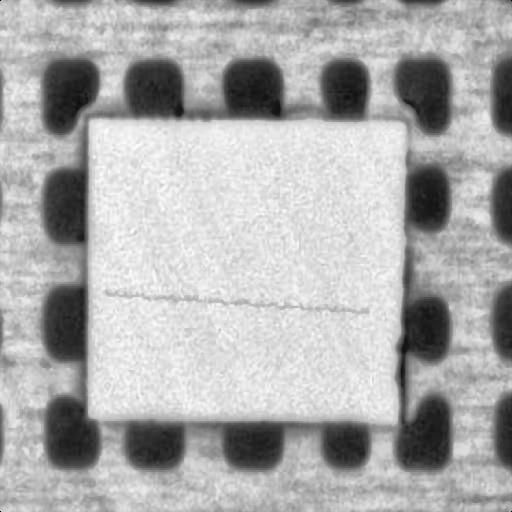DIE_CRACK: (138, 220, 486, 233)
